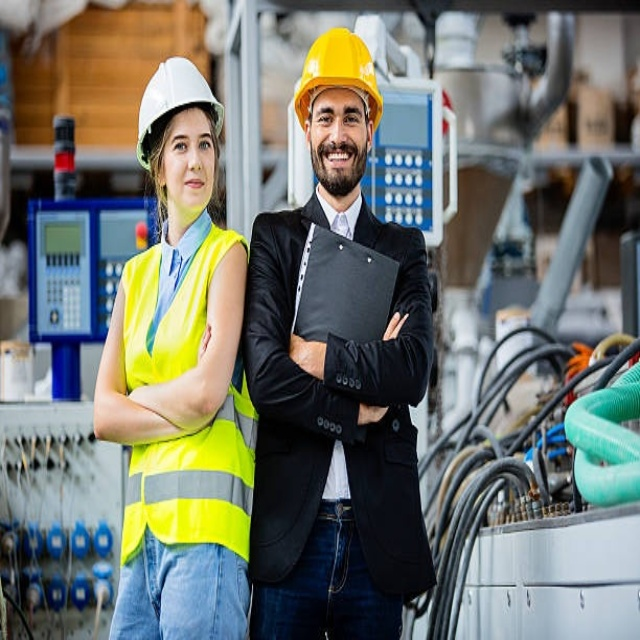Sin_gafas: (313, 97, 363, 132), (170, 129, 214, 160)
Sin_mascara: (317, 141, 355, 174), (179, 171, 209, 202)
